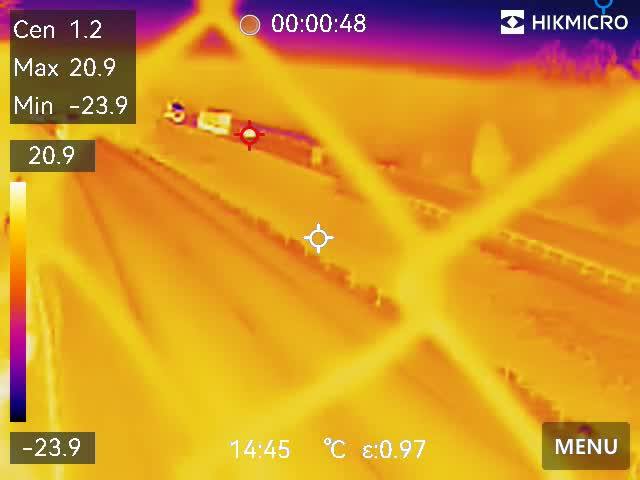heavyTruck: (195, 107, 237, 136)
